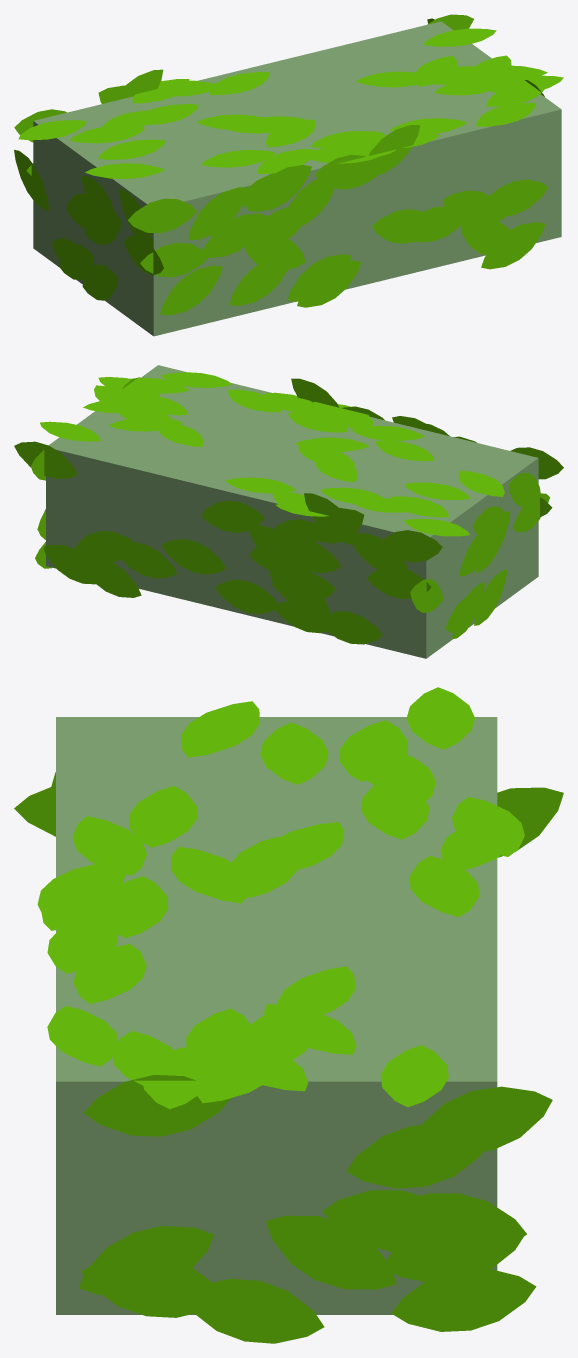
3 views of the same model, one above another, from view 1: azimuth 30°, elevation 25°; view 2: azimuth 150°, elevation 25°; view 3: azimuth 270°, elevation 25° (orthographic). The views are drawn at different scales.
Visible parts, largest first — view 1: Cube, leaves; view 2: Cube, leaves; view 3: Cube, leaves.
Part boxes in pixels (x1=…): Cube: x1=33, y1=21, x2=561, y2=336; leaves: x1=14, y1=14, x2=563, y2=315; Cube: x1=46, y1=365, x2=538, y2=658; leaves: x1=14, y1=372, x2=563, y2=644; Cube: x1=56, y1=717, x2=497, y2=1314; leaves: x1=14, y1=687, x2=563, y2=1343.
Bounding box in the file's own units: 453 × 151 × 249.
